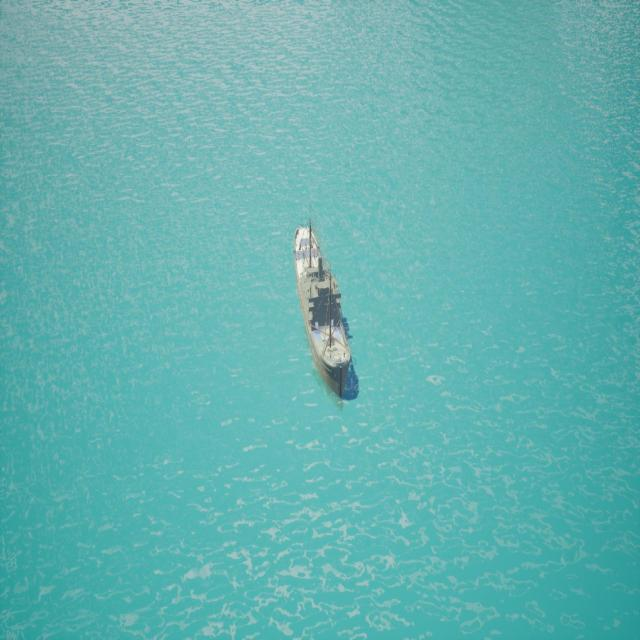fishing ship: (293, 221, 356, 407)
